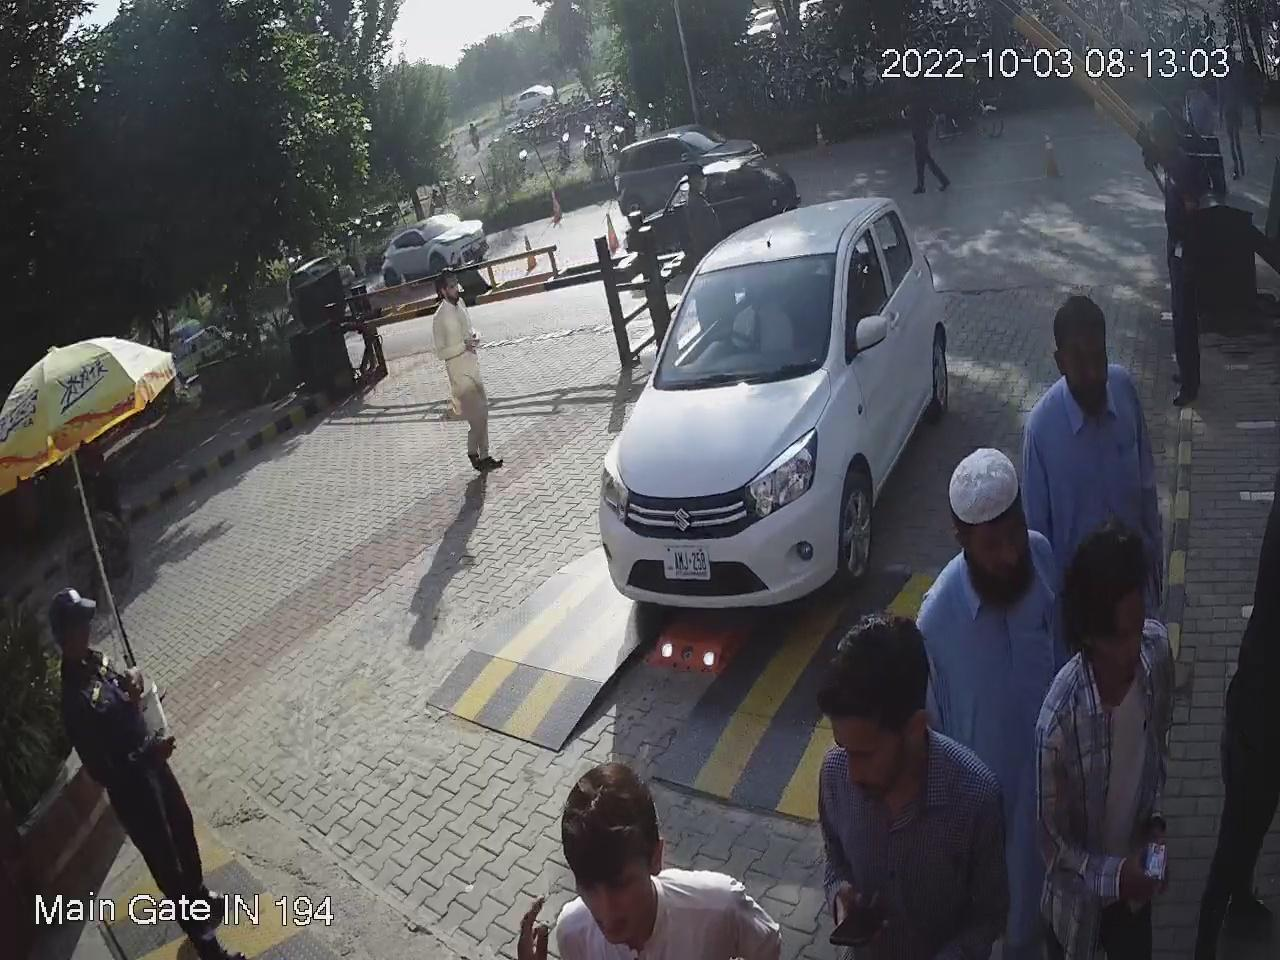windshield: (653, 238, 830, 390)
